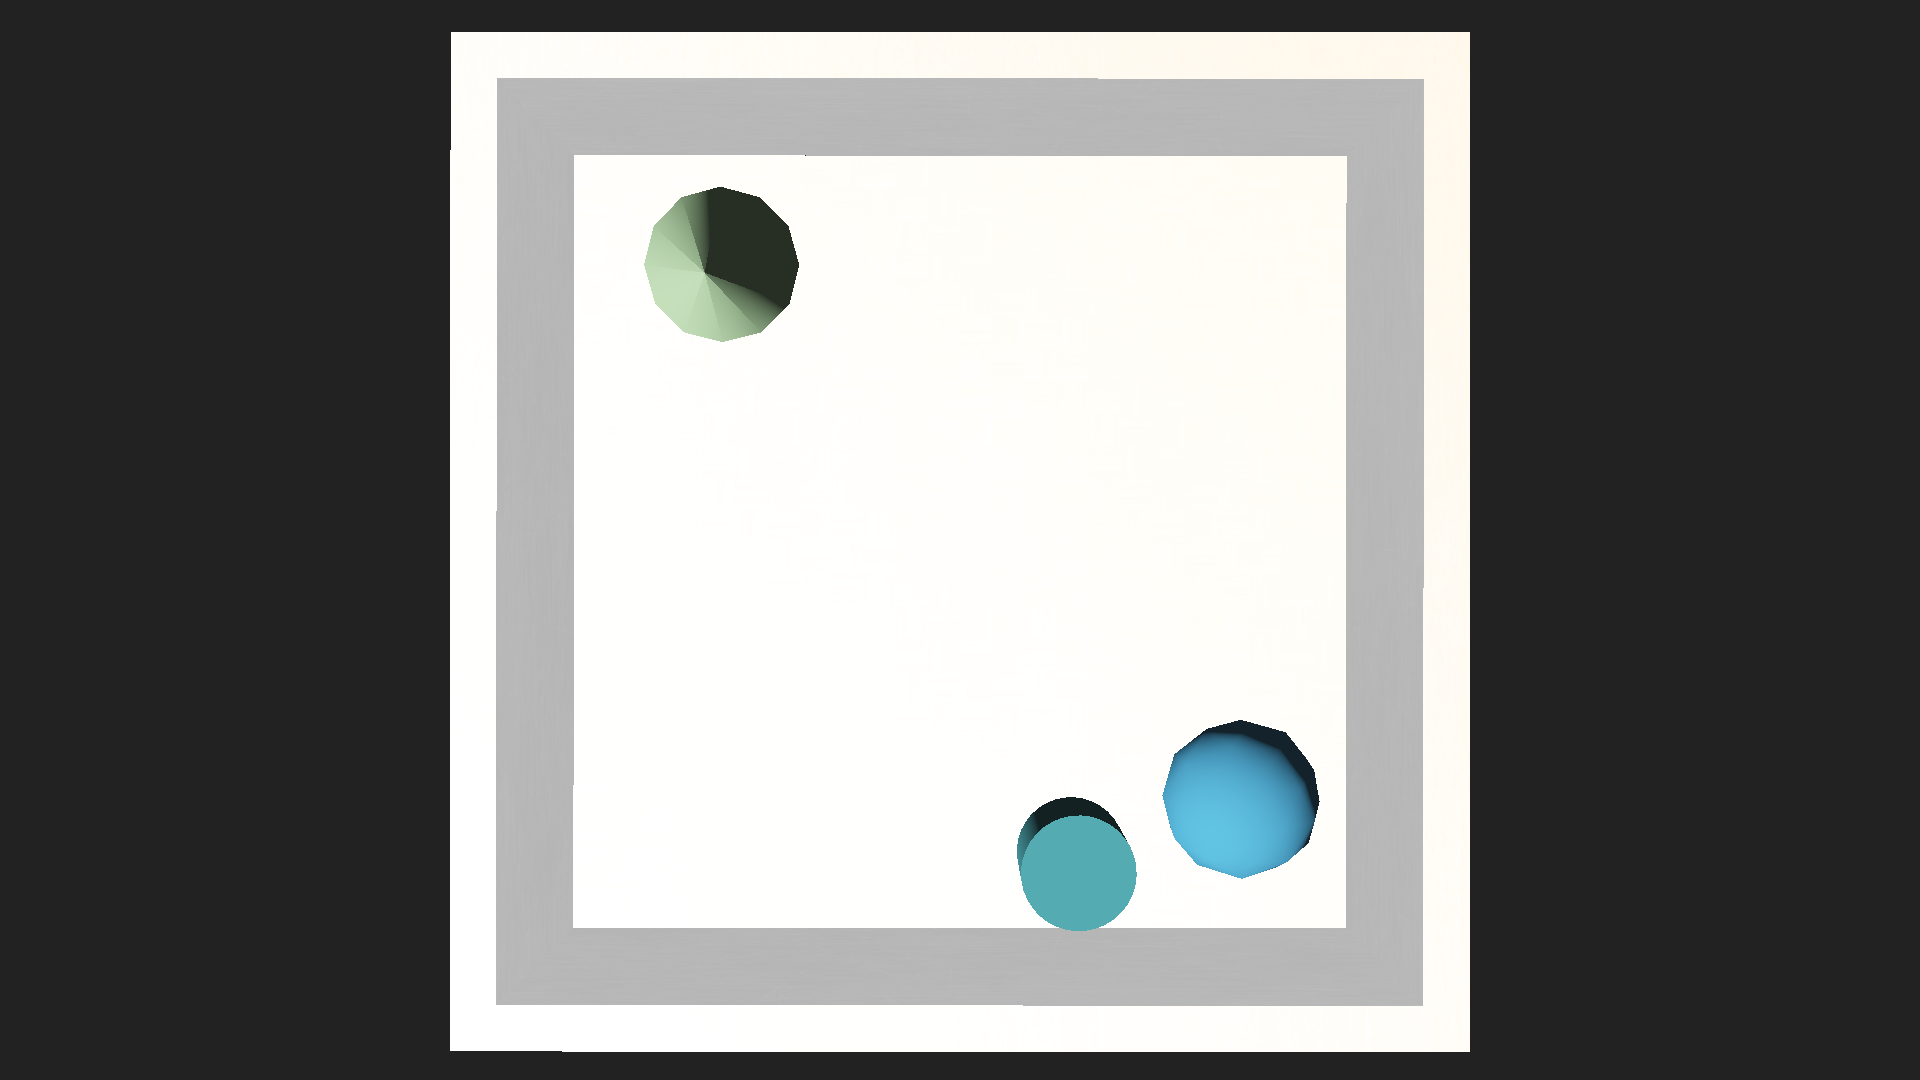cone: (1015, 796, 1135, 930)
cylinder: (626, 169, 791, 359)
sphere: (1160, 719, 1320, 877)
